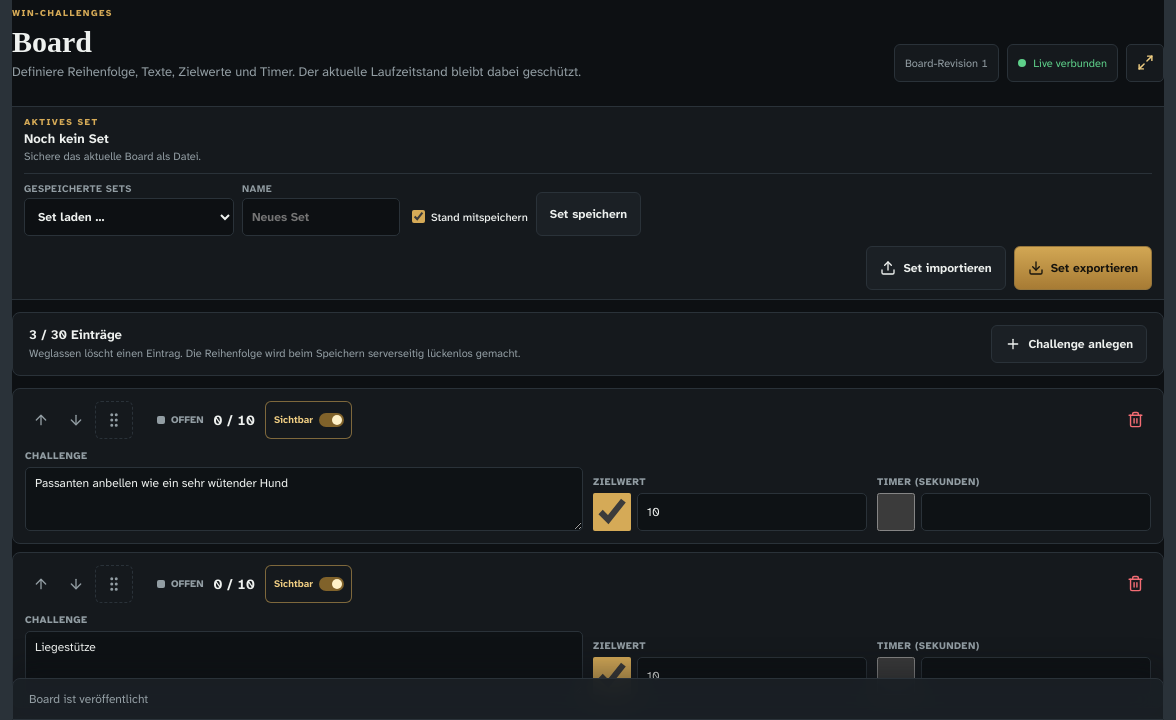
Test: ChallengeBoard › zeigt beim Set speichern ohne Feldfehler weiterhin nur die allgemeine Fehlermeldung
Type "Mein Set" into the field named "Name des Server-Sets" at point(321, 217), box [242, 198, 400, 236]
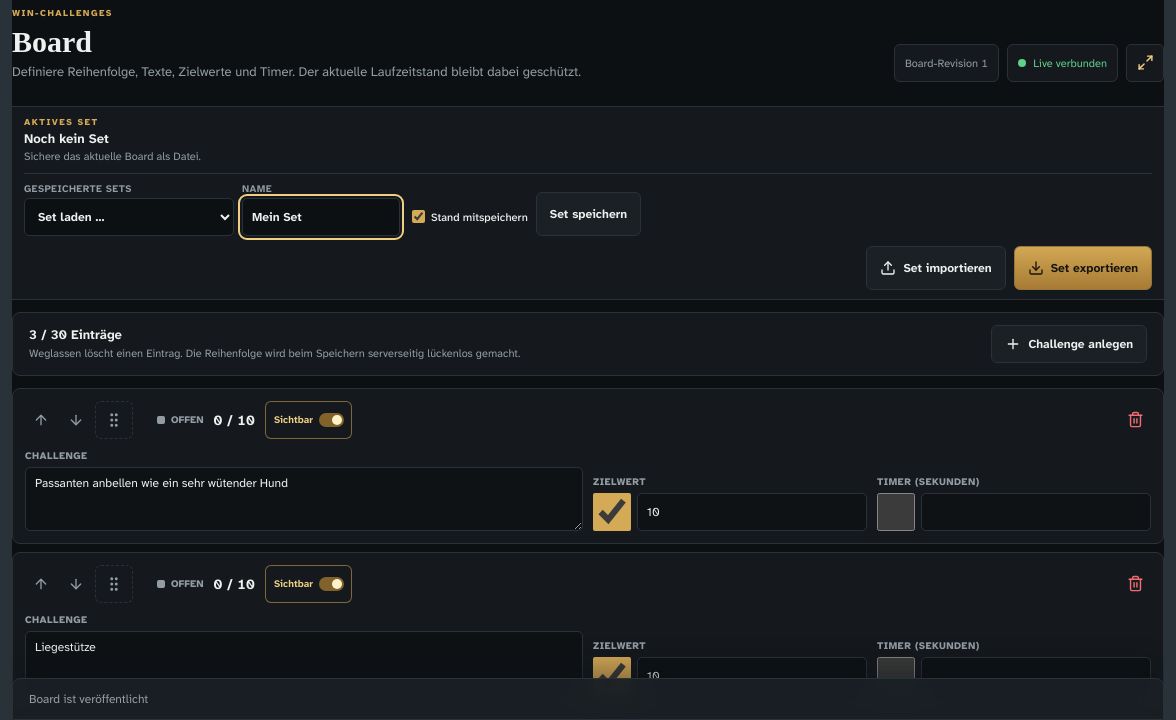
Click the button "Set speichern" at point(588, 214), box [536, 192, 641, 236]
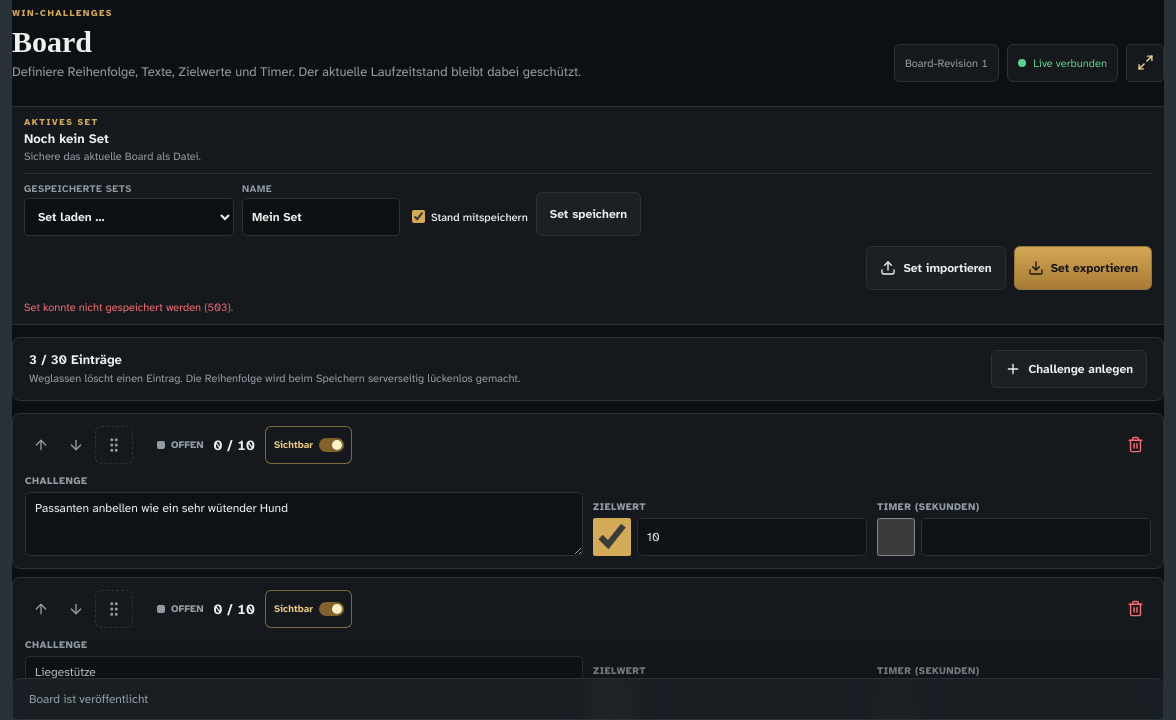
Now the text "Set konnte nicht gespeichert werden (503)." is shown, box [24, 300, 233, 314]
